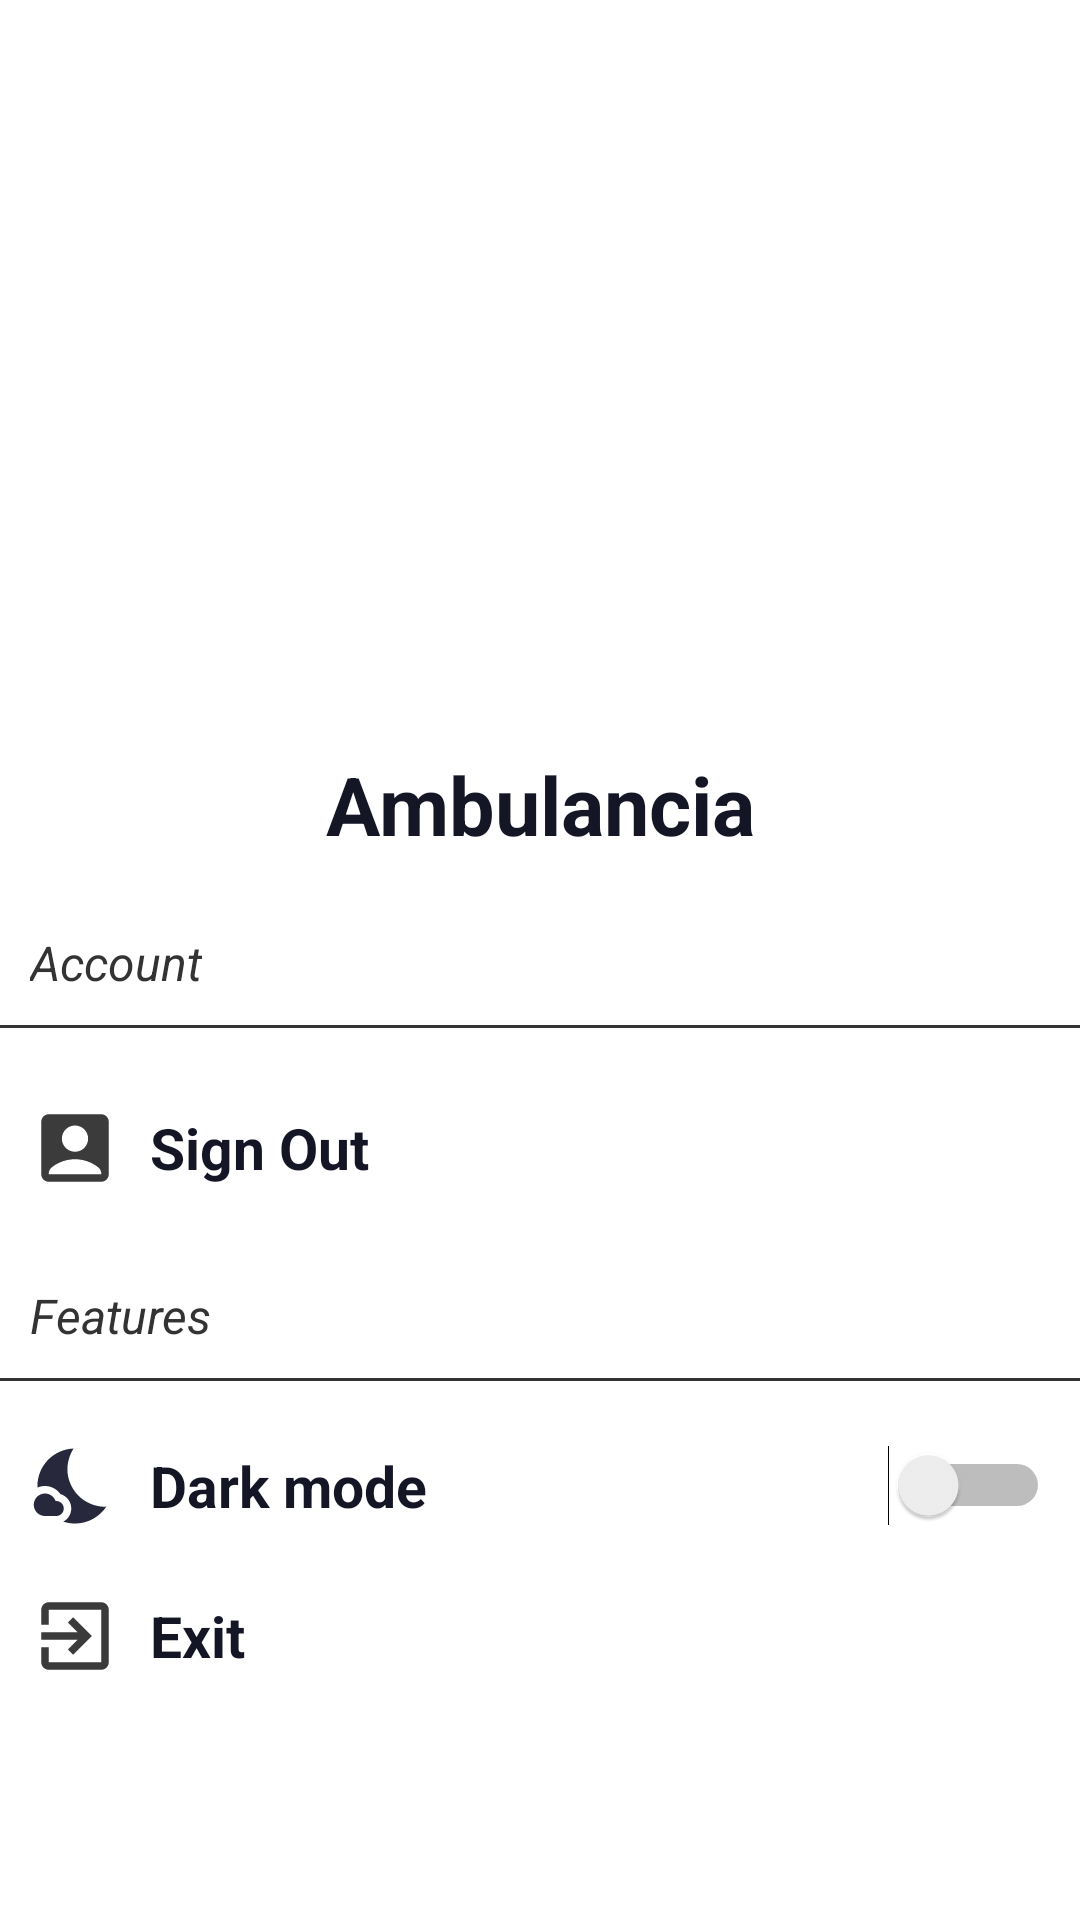

Named icons in this screenshot (1080×1920) and their bounding boxes, (x1, y1, x2, y2):
nights stay: (33, 1448, 107, 1524)
